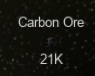Carbon: (18, 15, 86, 66)
